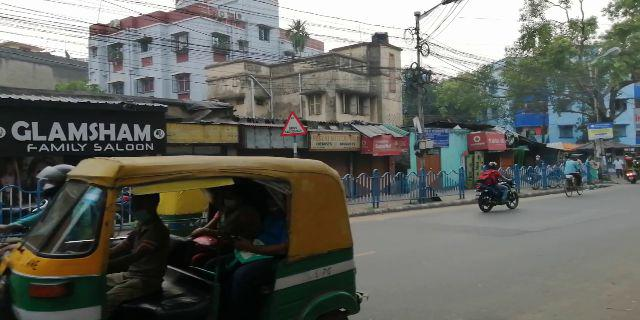Autorickshaw: (11, 158, 364, 314)
Motorbike: (473, 163, 520, 213)
